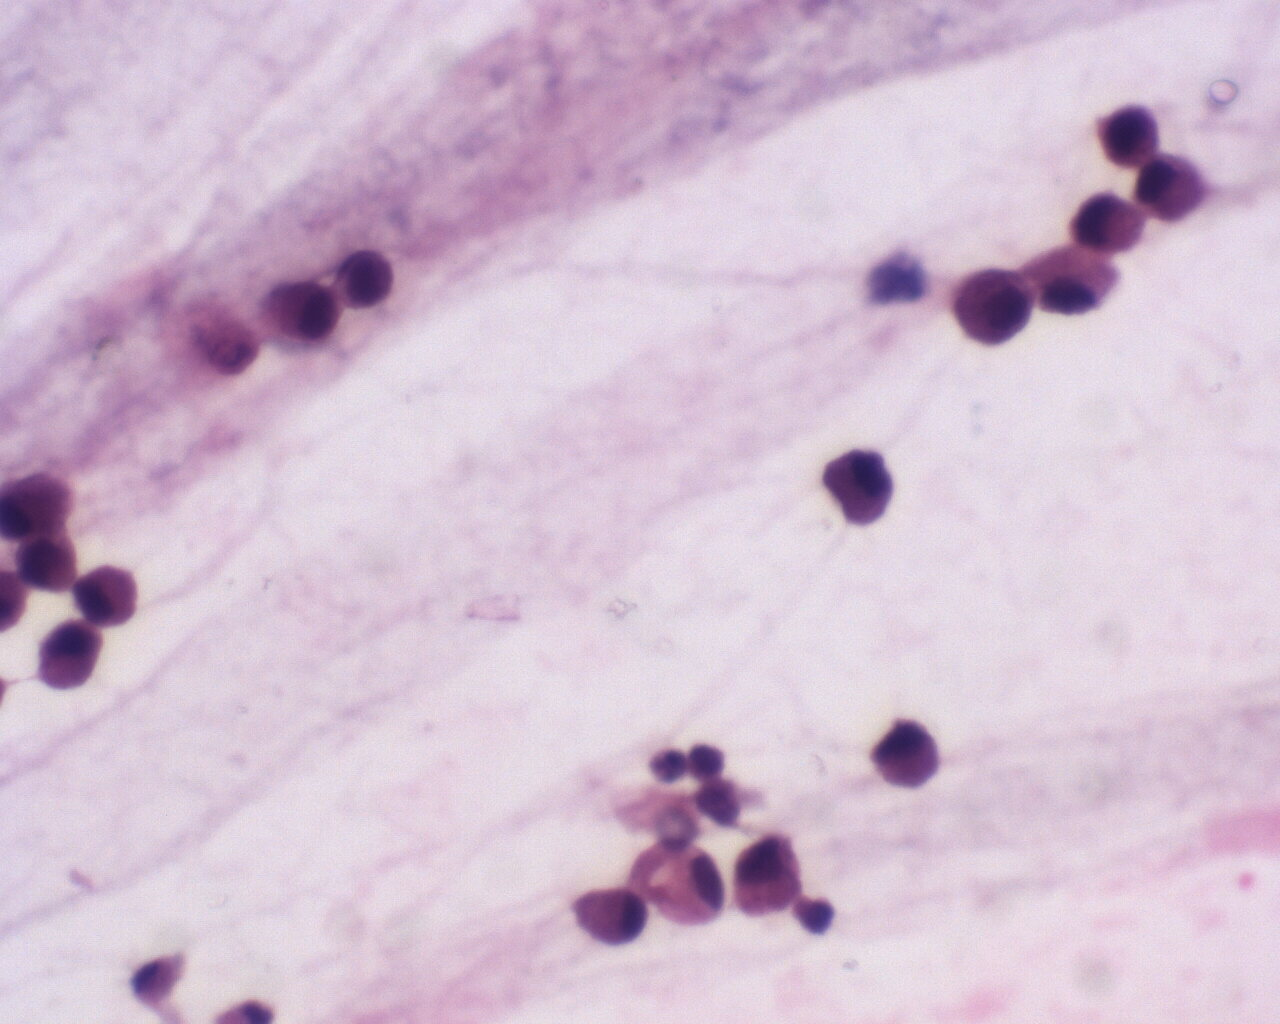ab: (729, 832, 805, 922), (822, 440, 900, 527), (870, 715, 946, 794), (1093, 99, 1166, 171), (331, 245, 399, 312), (75, 559, 140, 629), (15, 531, 85, 595)
histo: (633, 834, 728, 930)
meso: (948, 260, 1035, 352), (1133, 155, 1225, 228), (267, 276, 342, 345), (1071, 188, 1145, 255)
